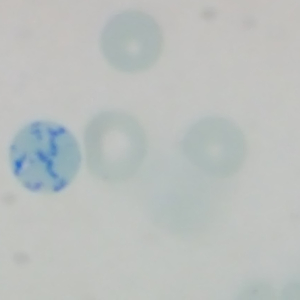aggregate reticulocyte: (5, 119, 83, 195)
erythrocyte: (80, 108, 148, 184), (176, 113, 248, 182), (97, 9, 164, 74)
